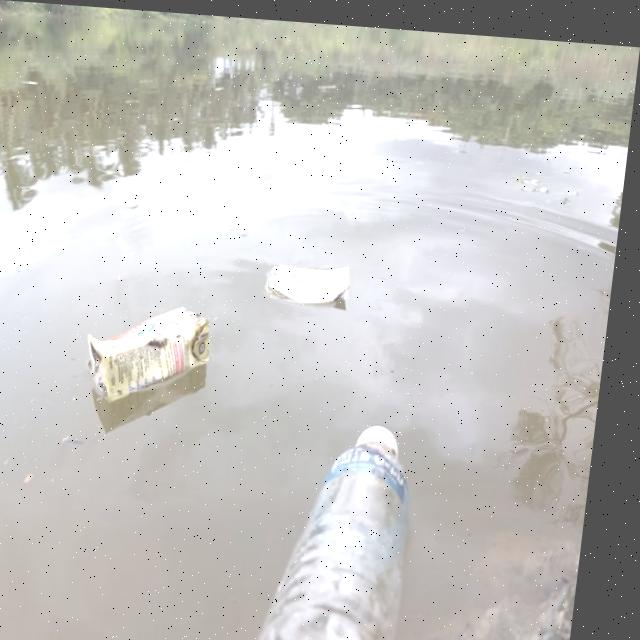paper: (59, 286, 245, 406), (256, 226, 367, 309)
waterbottle: (269, 396, 467, 640)
